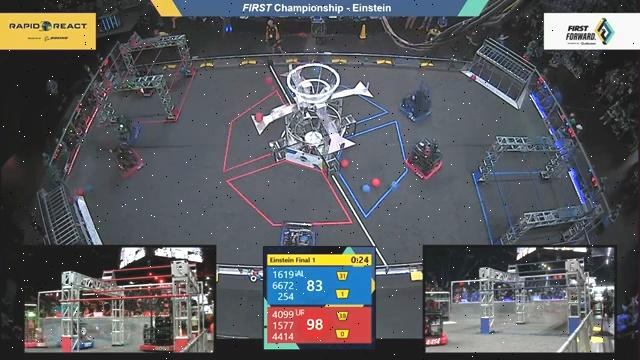Robot: (398, 133, 450, 183), (395, 76, 439, 126), (270, 211, 322, 251), (108, 141, 149, 185), (109, 107, 147, 149)
